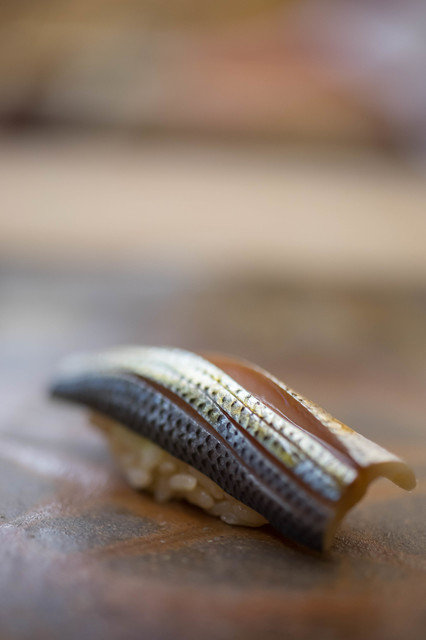spotted-shad: (46, 347, 425, 557)
